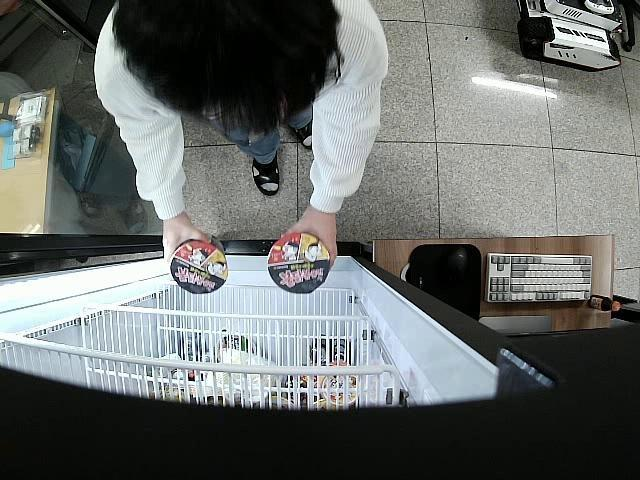07_buldak_L: (266, 235, 329, 296), (169, 236, 228, 294)
